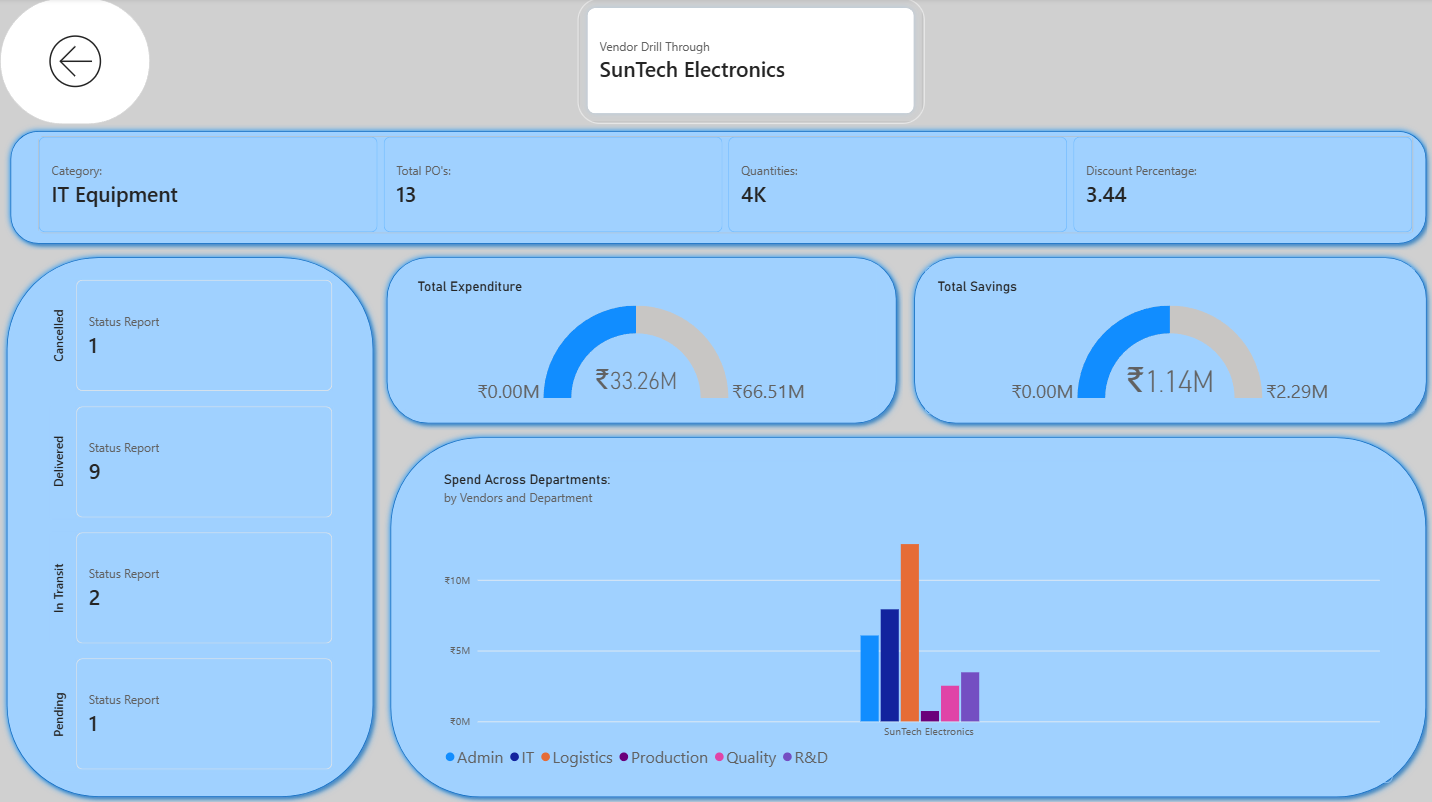

Layout of this report page (visuals, bound fields, positions):
{"tool":"powerbi","page":{"name":"Vendor Drill Through","canvas":[1920,1080],"ordinal":2},"visuals":[{"type":"shape","box":[509.3,338.4,701.2,240.7],"z":0,"group":"g1"},{"type":"shape","box":[5.2,169.2,1915.1,169.2],"z":1000,"group":"g1"},{"type":"shape","box":[1215.7,338.4,704.7,240.7],"z":1500,"group":"g1"},{"type":"shape","box":[514.5,579.1,1405.8,500.6],"z":2000,"group":"g1"},{"type":"shape","box":[0,338.4,509.3,741.3],"z":3000,"group":"g1"},{"type":"group","id":"g1","title":"Group 1","box":[0,169.2,1920.4,910.5],"z":3500},{"type":"cardVisual","fields":{"Data":["Min(Total spend and Discount.Vendor_Name)"]},"box":[774.3,0,465.7,169.2],"z":4000},{"type":"gauge","fields":{"Y":["Sum(Total spend and Discount.Total_expenditure)"]},"box":[542.7,360.1,633.1,197.6],"z":5000},{"type":"actionButton","box":[0,0,201,169.2],"z":7000},{"type":"cardVisual","fields":{"Data":["CountNonNull(Delivery Status.On_Time_Status)"],"Rows":["Delivery Status.Status"]},"box":[65.3,375.2,383.6,663.3],"z":8000},{"type":"gauge","fields":{"Y":["Sum(Spend&savings departmentwise.Total_Savings)"]},"box":[1239.5,360.1,656.6,197.6],"z":9000},{"type":"clusteredColumnChart","fields":{"Category":["Spend&savings departmentwise.Vendor_Name"],"Series":["Spend&savings departmentwise.Department"],"Y":["Sum(Spend&savings departmentwise.Total_Spend)"]},"box":[577.9,619.7,1288,432.1],"z":10000},{"type":"cardVisual","fields":{"Data":["Min(Procurement_Vendor Final INR.Category)","Sum(Total spend and Discount.Total_Purchases)","Sum(Delivery Status.Quantity)","Sum(Total spend and Discount.Discount Percentage)"]},"box":[50.2,184.2,1845.8,132.3],"z":11000}]}

Visuals, with their boxes in screenshot pixels (x1, y1, x2, y2), scaled from the page's 1920x1080 canvas onto the 1432x802 screenshot:
shape: rect(380, 251, 903, 430)
shape: rect(4, 126, 1431, 251)
shape: rect(907, 251, 1431, 430)
shape: rect(384, 430, 1431, 801)
shape: rect(0, 251, 380, 801)
"Group 1" group: rect(0, 126, 1431, 801)
cardVisual - Min(Total spend and Discount.Vendor_Name): rect(577, 0, 925, 126)
gauge - Sum(Total spend and Discount.Total_expenditure): rect(405, 267, 877, 414)
actionButton: rect(0, 0, 150, 126)
cardVisual - CountNonNull(Delivery Status.On_Time_Status) x Delivery Status.Status: rect(49, 279, 335, 771)
gauge - Sum(Spend&savings departmentwise.Total_Savings): rect(924, 267, 1414, 414)
clusteredColumnChart - Spend&savings departmentwise.Vendor_Name x Spend&savings departmentwise.Department: rect(431, 460, 1392, 781)
cardVisual - Min(Procurement_Vendor Final INR.Category) x Sum(Total spend and Discount.Total_Purchases): rect(37, 137, 1414, 235)
